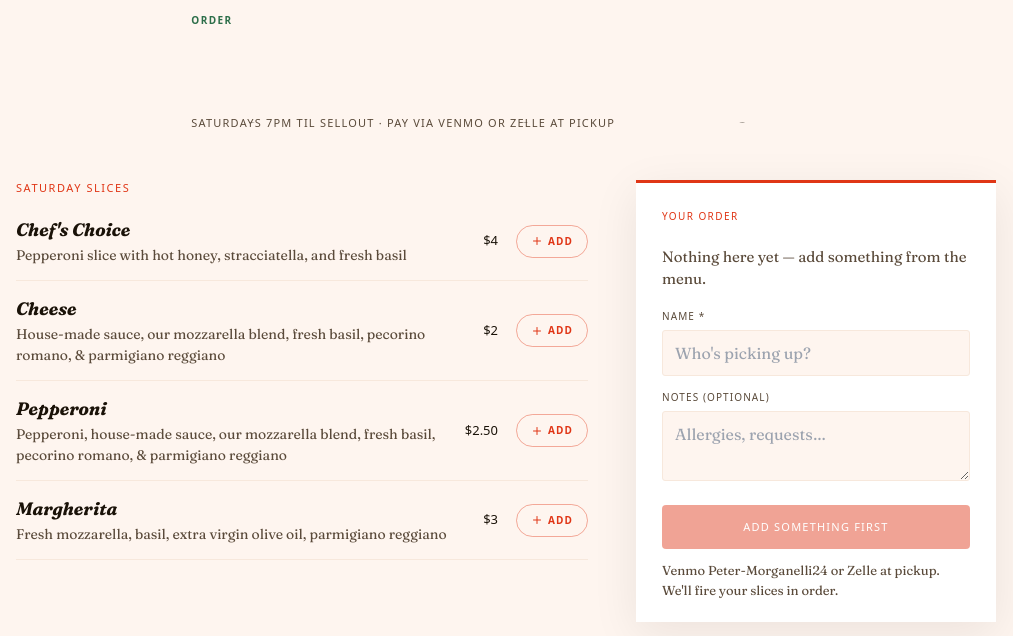
Test case: OrderPage › quantity caps › removes the unit rows as the quantity comes back down
The image size is (1013, 636).
Expected: the text "Chef's Choice" is shown, [16, 218, 130, 241]
Click the button "Add" next to "$4". click: [552, 241]
box: [516, 224, 588, 258]
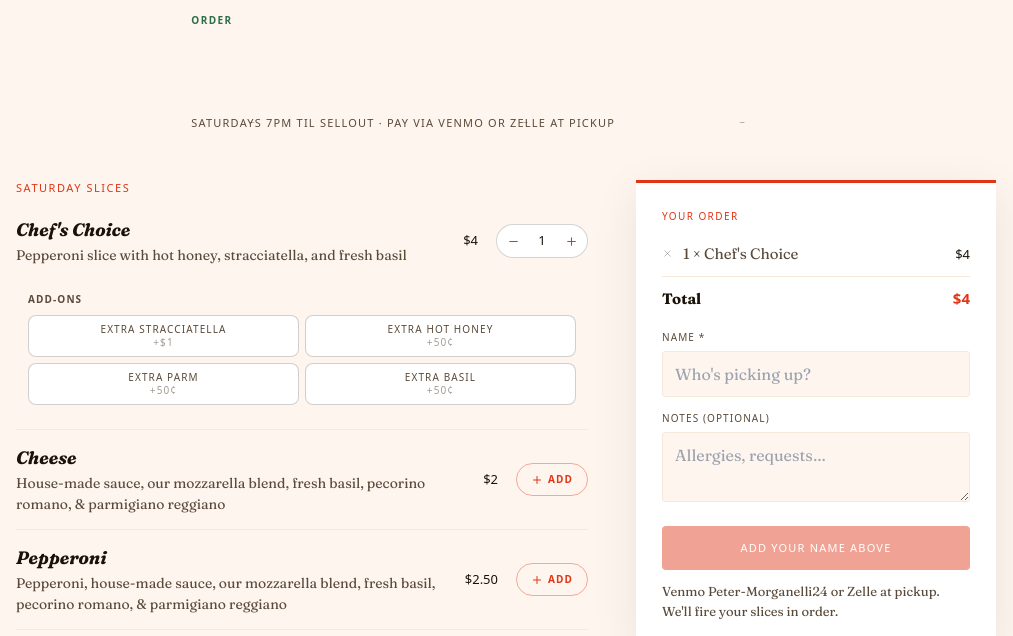
Click the button named "Add one". click: [571, 241]
box: [555, 225, 587, 257]
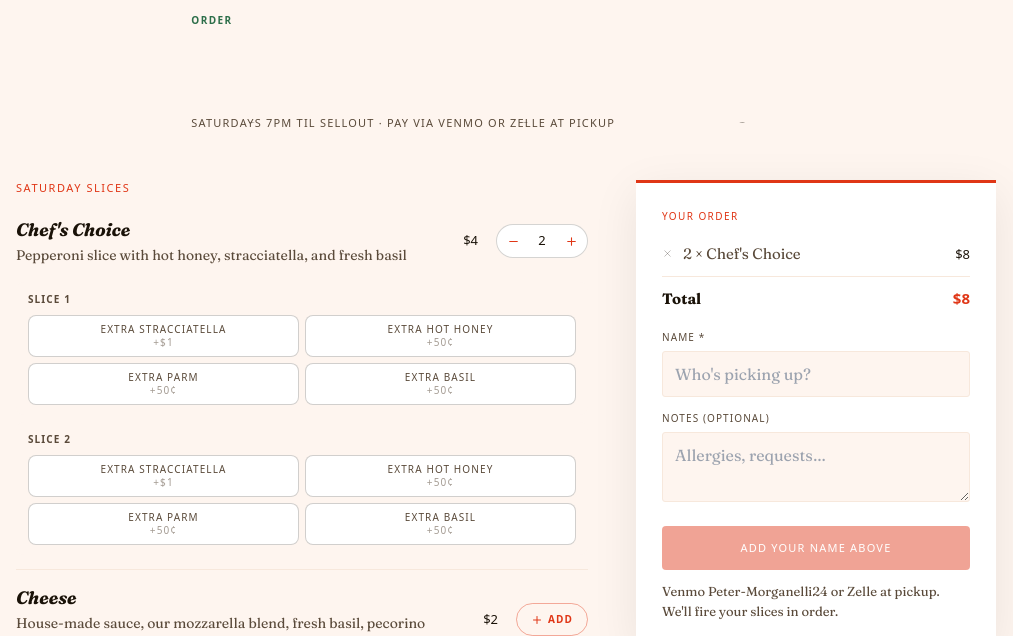
Now the number of elements with class "addon-unit" is 2, box [16, 282, 588, 415]; [16, 422, 588, 555]
Click the button named "Remove one". click: [513, 241]
box: [497, 225, 529, 257]
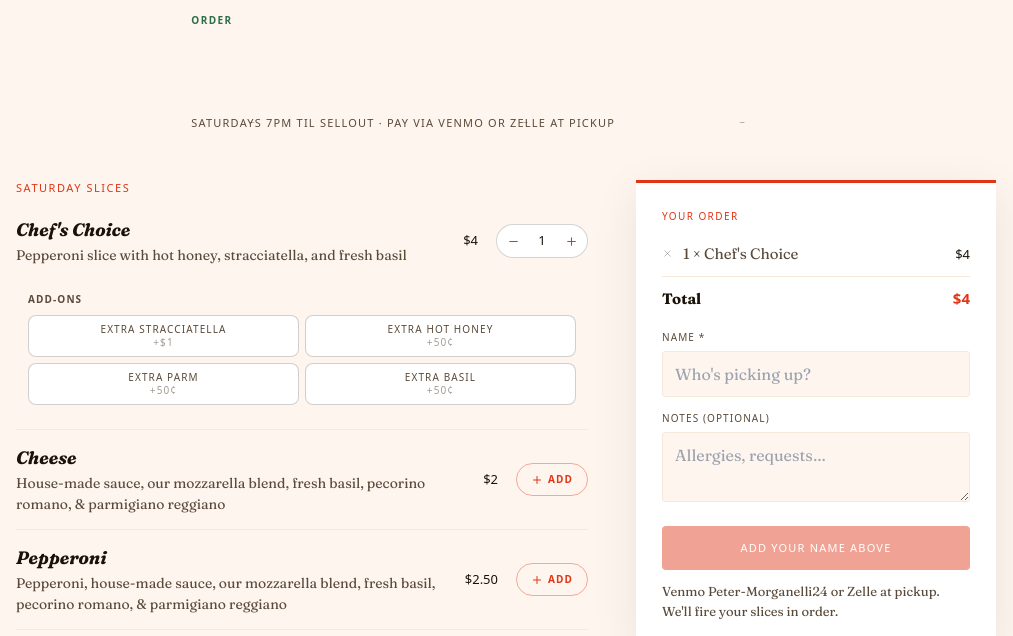
Now the number of elements with class "addon-unit" is 1, box [16, 282, 588, 415]
Click the button named "Remove one". click: [513, 241]
box: [497, 225, 529, 257]
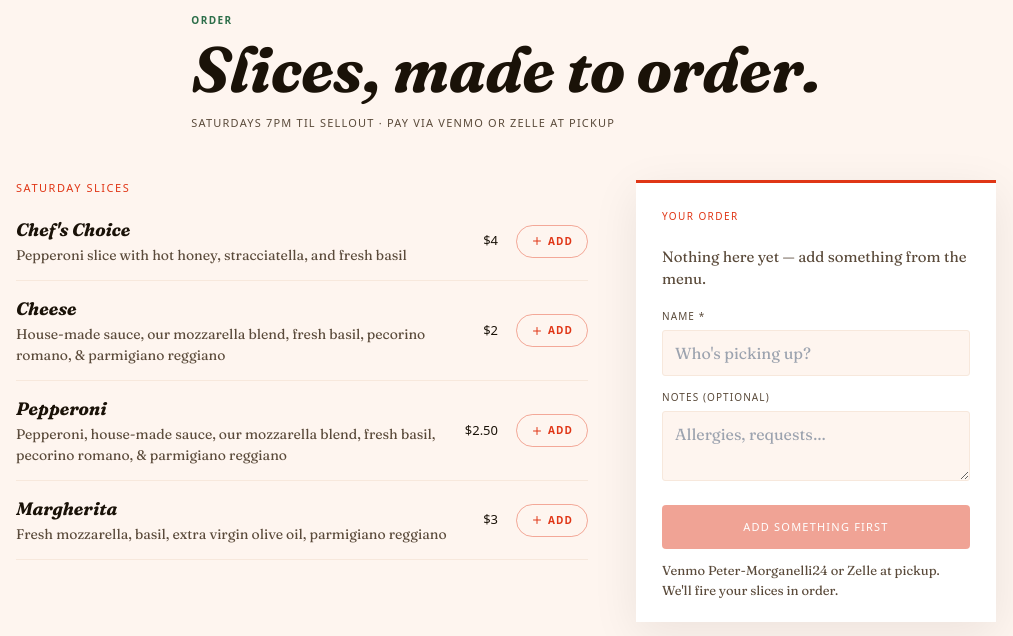
Now no elements with class "addon-unit" are shown
